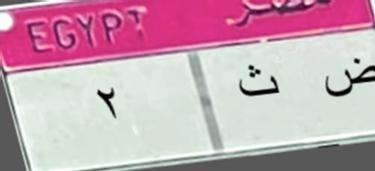2: (92, 84, 124, 130)
daad: (320, 53, 375, 109)
thaa: (233, 60, 284, 110)
